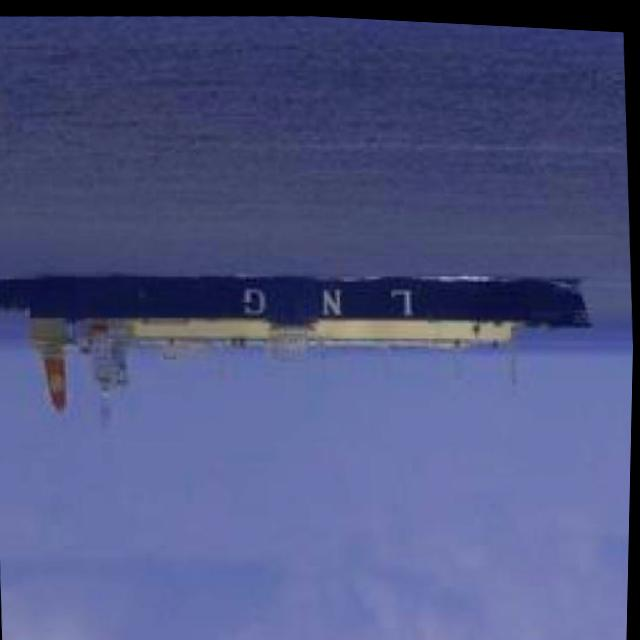ship2: (0, 274, 594, 432)
